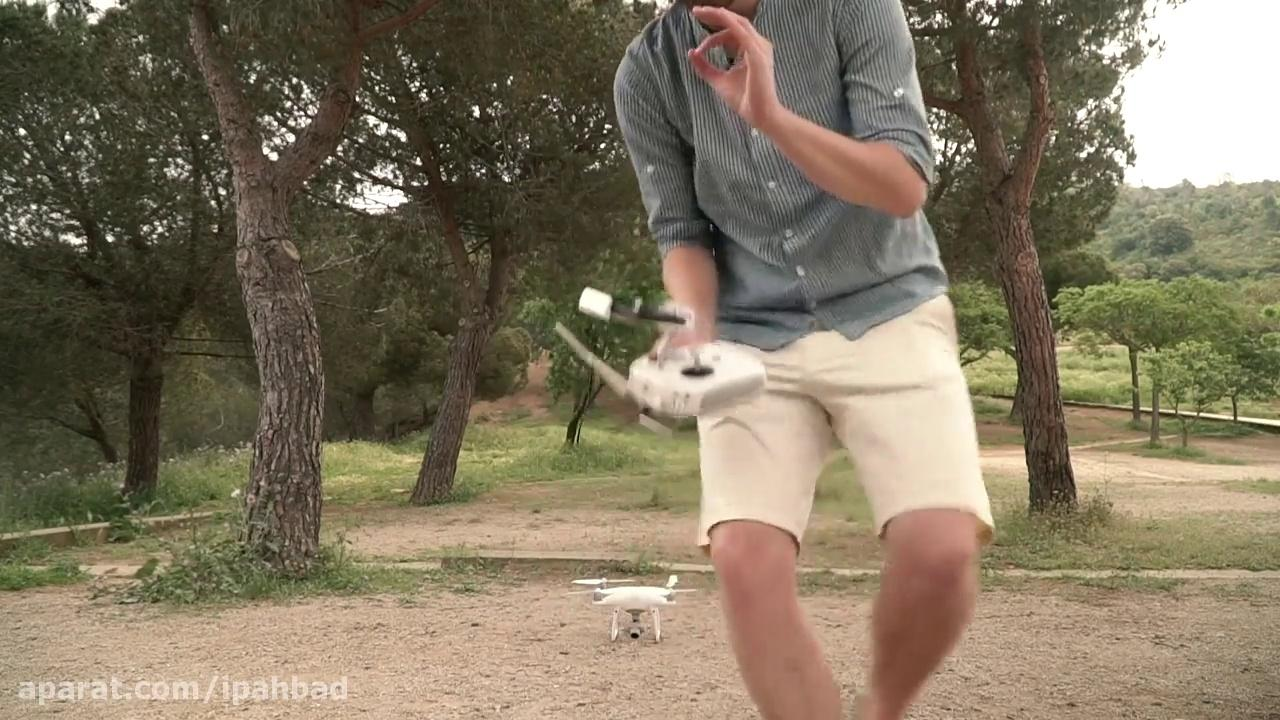drone: (570, 571, 700, 644)
